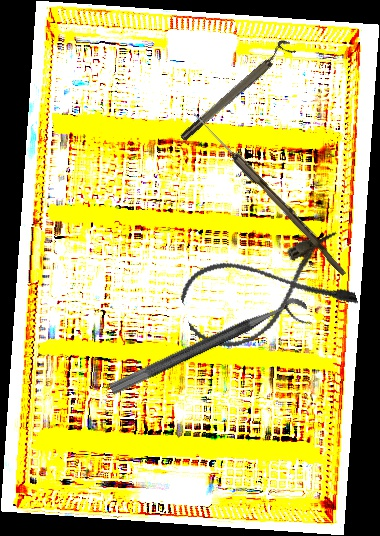Cannula: (174, 227, 360, 358)
Fixation Ring: (108, 293, 314, 412), (174, 36, 297, 144)
Surgical Spoon: (189, 110, 351, 277)
